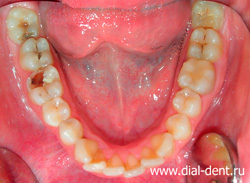LL1BC_healthy: (167, 114, 192, 139)
LL1M_healthy: (181, 59, 216, 92)
LL2BC_healthy: (174, 88, 202, 116)
LL2M_decay: (190, 29, 221, 58)
LL3M_healthy: (193, 2, 224, 27)
LLCI_healthy: (124, 154, 144, 176)
LLC_healthy: (153, 133, 174, 155)
LLLI_healthy: (141, 148, 164, 167)
LR1BC_healthy: (62, 120, 82, 143)
LR1M_decay: (27, 67, 61, 100)
LR2BC_healthy: (46, 101, 67, 123)
LR2M_decay: (22, 40, 51, 66)
LR3M_decay: (9, 8, 40, 39)
LRCI_healthy: (107, 154, 123, 175)
LRC_healthy: (75, 138, 97, 162)
LRLI_healthy: (89, 155, 106, 174)
